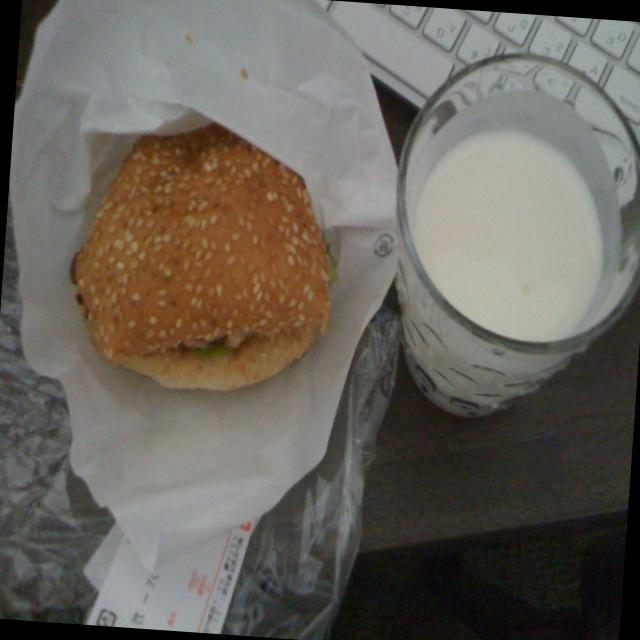Hamburger: (70, 102, 346, 433)
